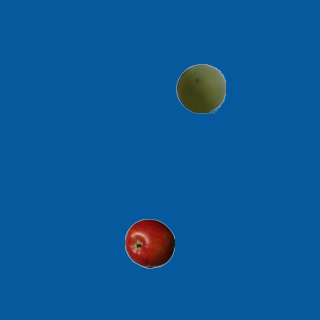Apple Braeburn: (124, 218, 174, 268)
Grape White 4: (175, 63, 225, 113)
